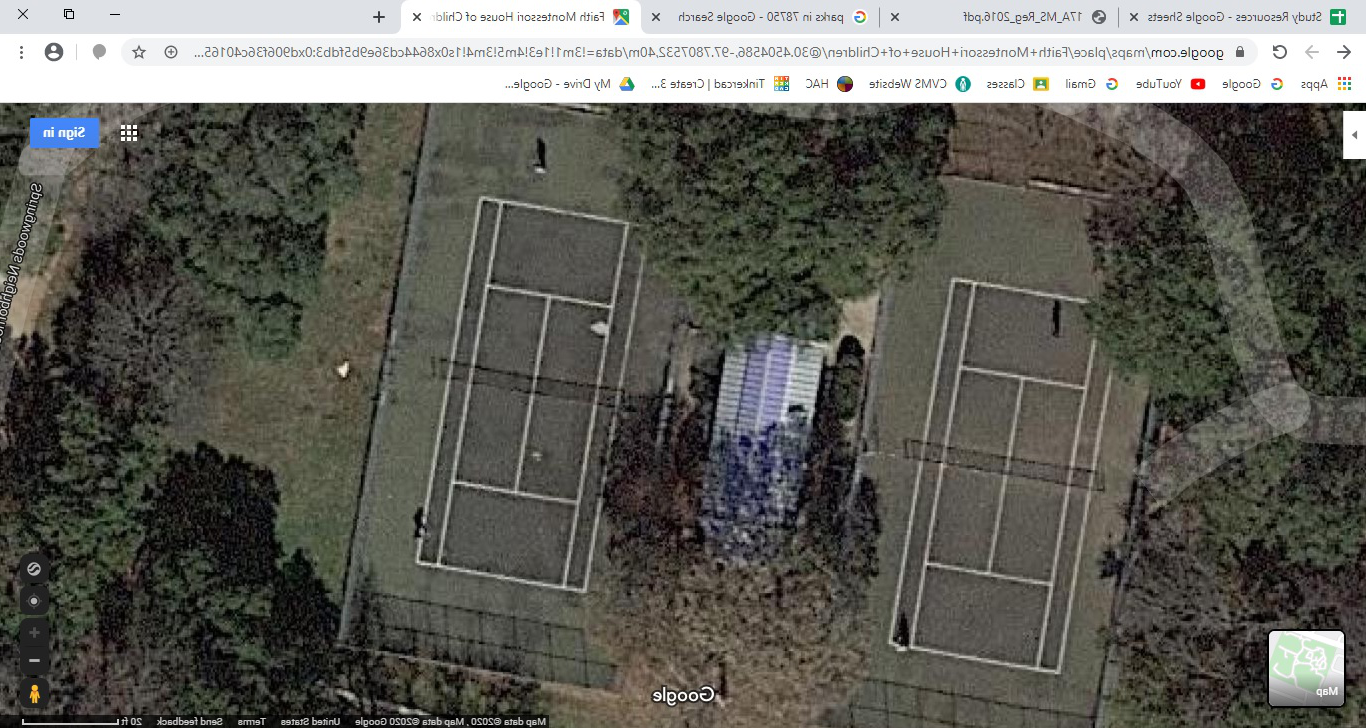tennis: (409, 160, 680, 634), (883, 244, 1152, 702)
